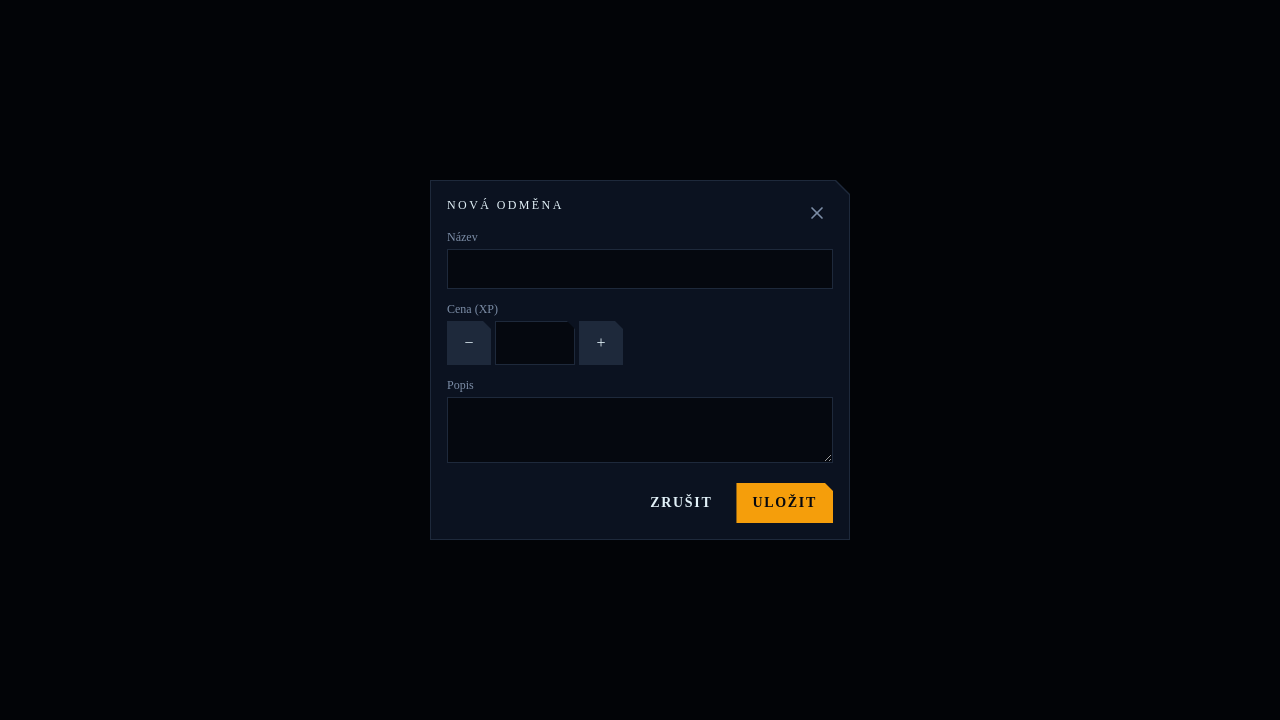
it: RewardDialog › shows validation error for empty name
In the number field labelled "Cena (XP)": (535, 343) [495,321,575,365], type "50"
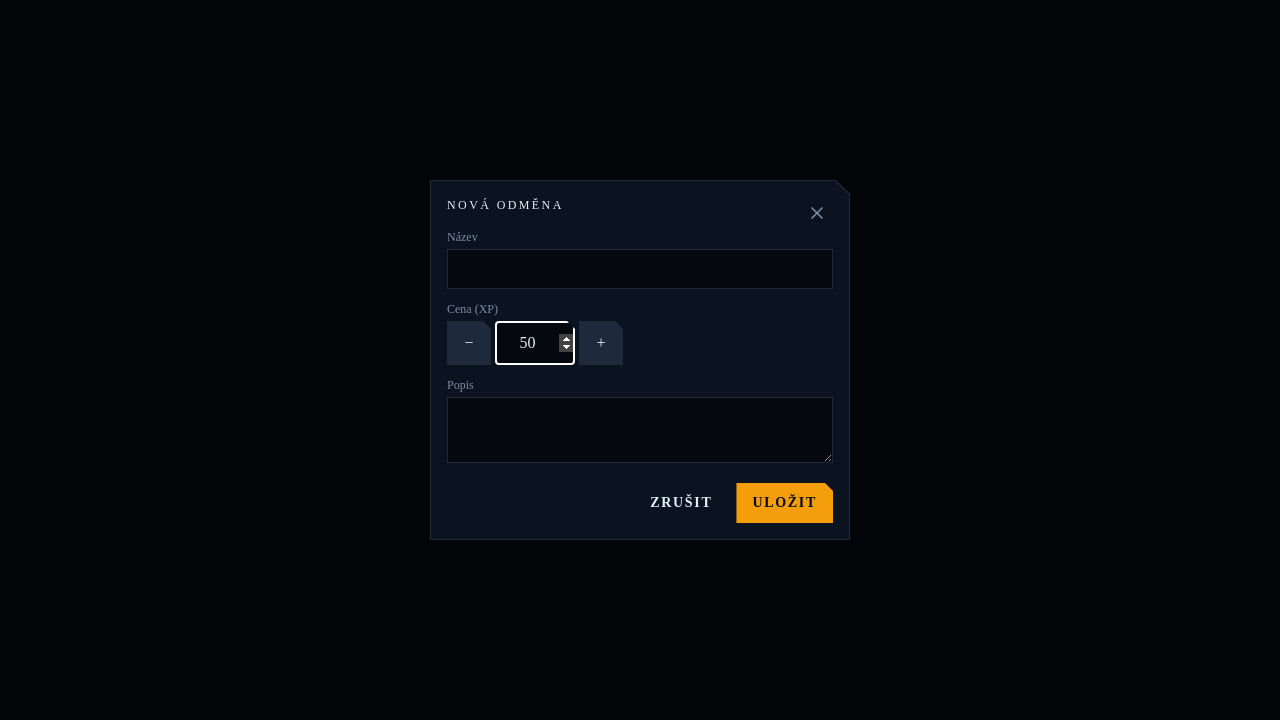
Click the button "Uložit": (785, 503) [736,483,833,523]
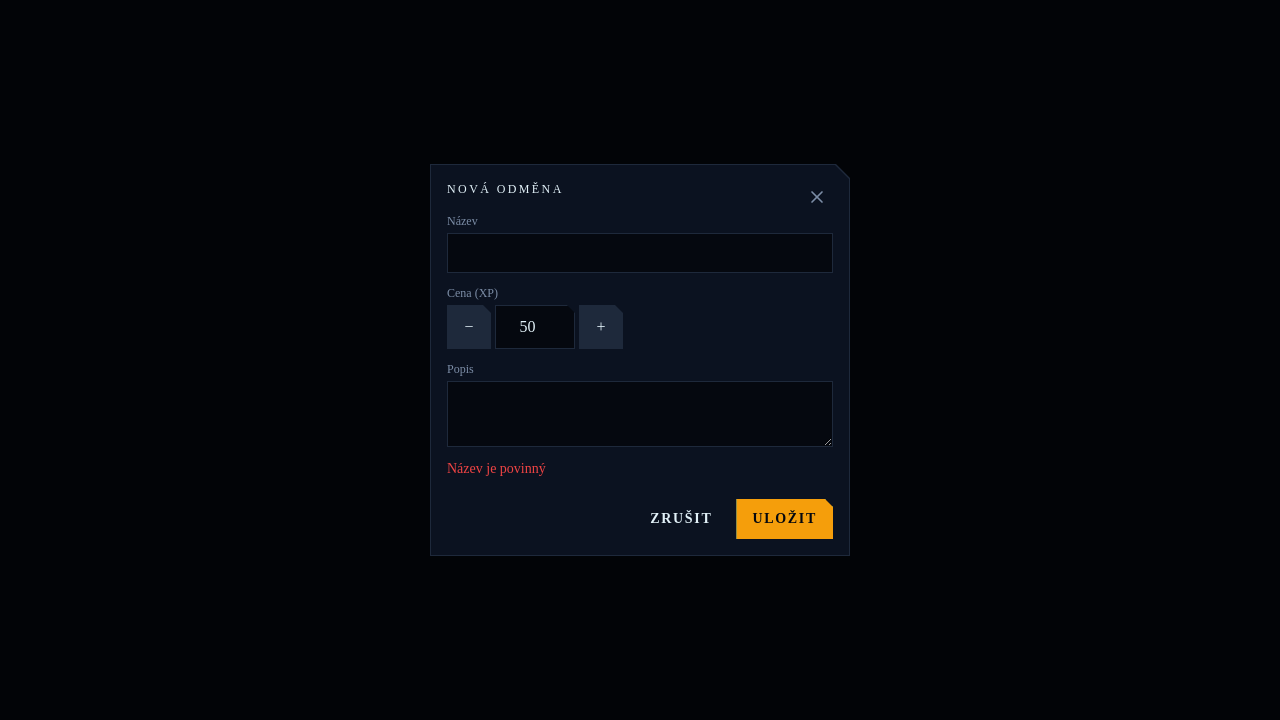
Check: the text "Název je povinný" is shown, box [447,461,546,476]
